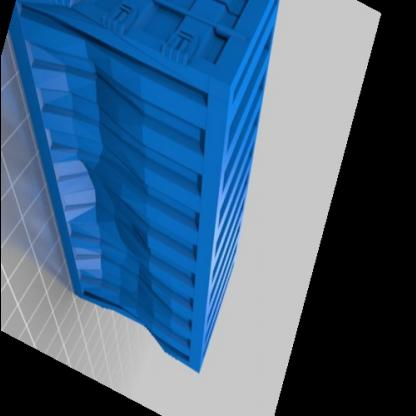Damage: (82, 24, 158, 336)
